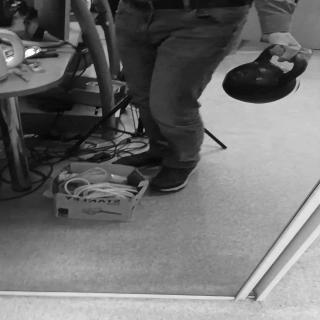kettlebell: (223, 42, 310, 108)
